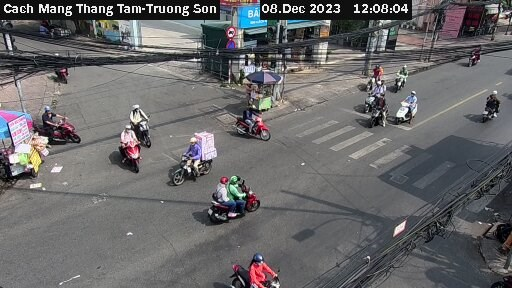motorbike: (221, 246, 289, 288), (205, 177, 264, 223), (33, 107, 86, 152), (169, 138, 219, 184), (24, 108, 81, 148), (223, 102, 278, 143), (105, 125, 151, 171), (121, 102, 161, 141), (468, 87, 509, 121), (393, 91, 429, 123), (367, 96, 397, 126), (458, 42, 491, 67), (389, 64, 420, 89)
